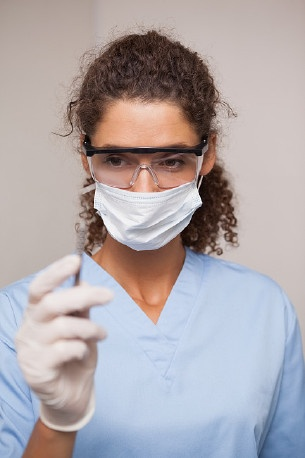Mask: (86, 137, 204, 253)
